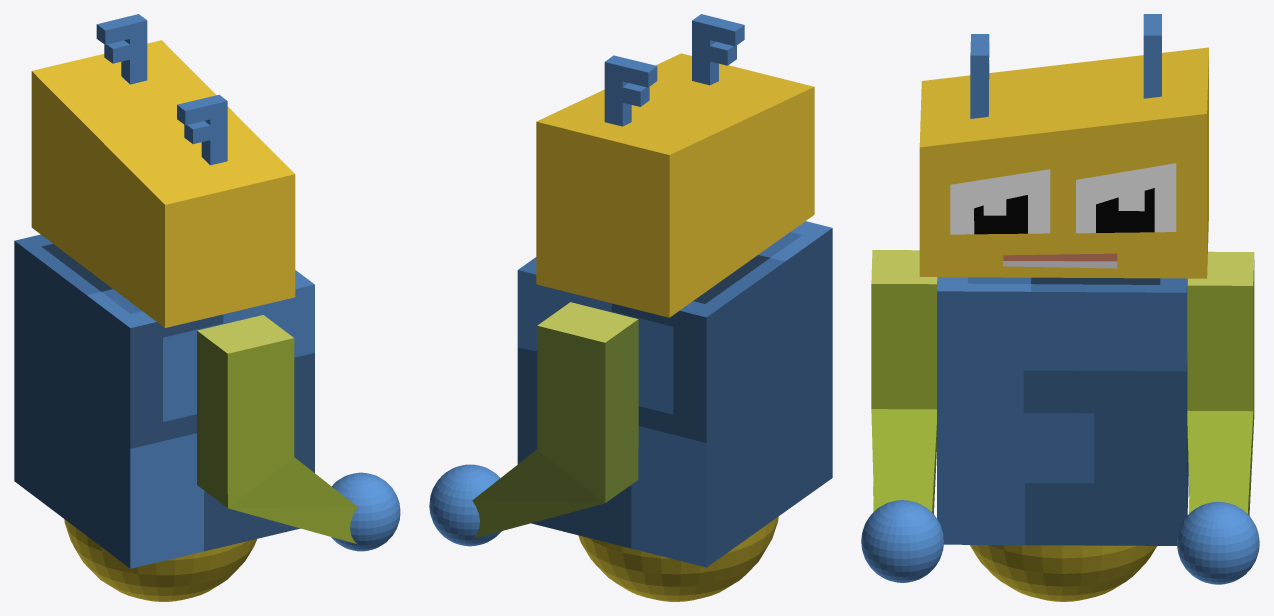
Rendered from _furbot.dae.
3 views of the same model, side by side, from view 1: azimuth 30°, elevation 25°; view 2: azimuth 150°, elevation 25°; view 3: azimuth 270°, elevation 25° (orthographic). The views are drawn at different scales.
Parts seen in each view (by area): view 1: Cubo, Cubo.002, Esfera UV.002, Esfera UV, Cubo.003, Cubo.004; view 2: Cubo, Cubo.002, Esfera UV.003, Esfera UV, Cubo.003, Cubo.004; view 3: Cubo, Cubo.002, Esfera UV.003, Esfera UV.002, Esfera UV, Cubo.004, Cubo.003.
Part boxes in pixels (left/top/right/bottom): Cubo: left=14, top=234, right=314, bottom=568; Cubo.002: left=31, top=40, right=295, bottom=327; Esfera UV.002: left=197, top=315, right=400, bottom=551; Esfera UV: left=64, top=519, right=256, bottom=601; Cubo.003: left=96, top=14, right=147, bottom=84; Cubo.004: left=177, top=94, right=227, bottom=165; Cubo: left=517, top=221, right=832, bottom=567; Cubo.002: left=536, top=53, right=814, bottom=317; Esfera UV.003: left=429, top=302, right=638, bottom=546; Esfera UV: left=578, top=516, right=778, bottom=601; Cubo.003: left=604, top=55, right=657, bottom=126; Cubo.004: left=692, top=14, right=744, bottom=85; Cubo: left=937, top=277, right=1188, bottom=545; Cubo.002: left=919, top=47, right=1208, bottom=278; Esfera UV.003: left=1177, top=251, right=1259, bottom=584; Esfera UV.002: left=861, top=250, right=943, bottom=582; Esfera UV: left=970, top=545, right=1156, bottom=601; Cubo.004: left=970, top=34, right=989, bottom=118; Cubo.003: left=1143, top=14, right=1161, bottom=98.
Bounding box in the file's own units: 5.76 × 7.53 × 11.83.
